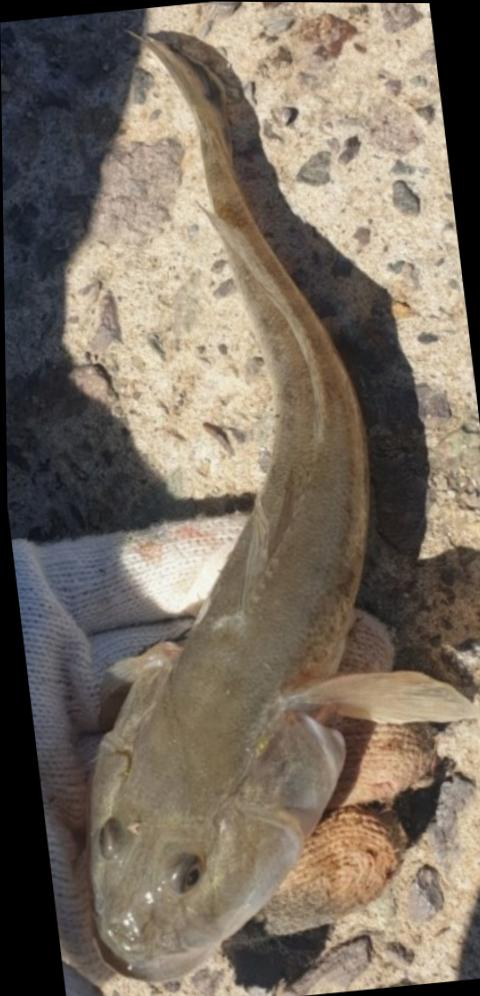fish: (86, 38, 467, 980)
